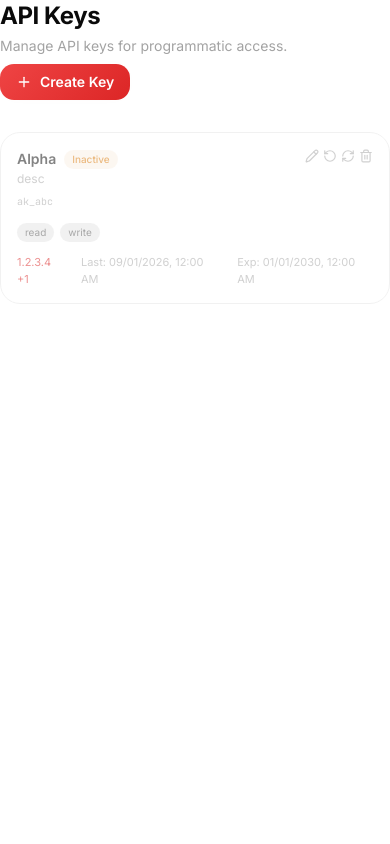
Test: ApiKeysPage — mobile action wiring › wires the mobile restore button
Click the button named "Restore key" at (330, 156), box [323, 149, 337, 163]
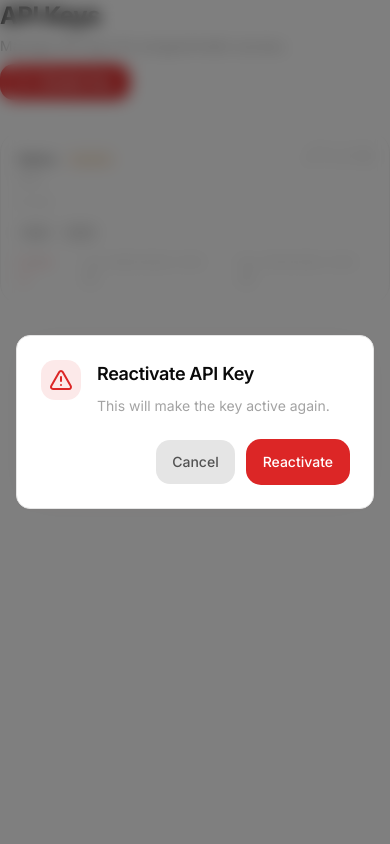
Check: the dialog with test id "confirm-dialog" is shown, box [16, 335, 374, 509]
